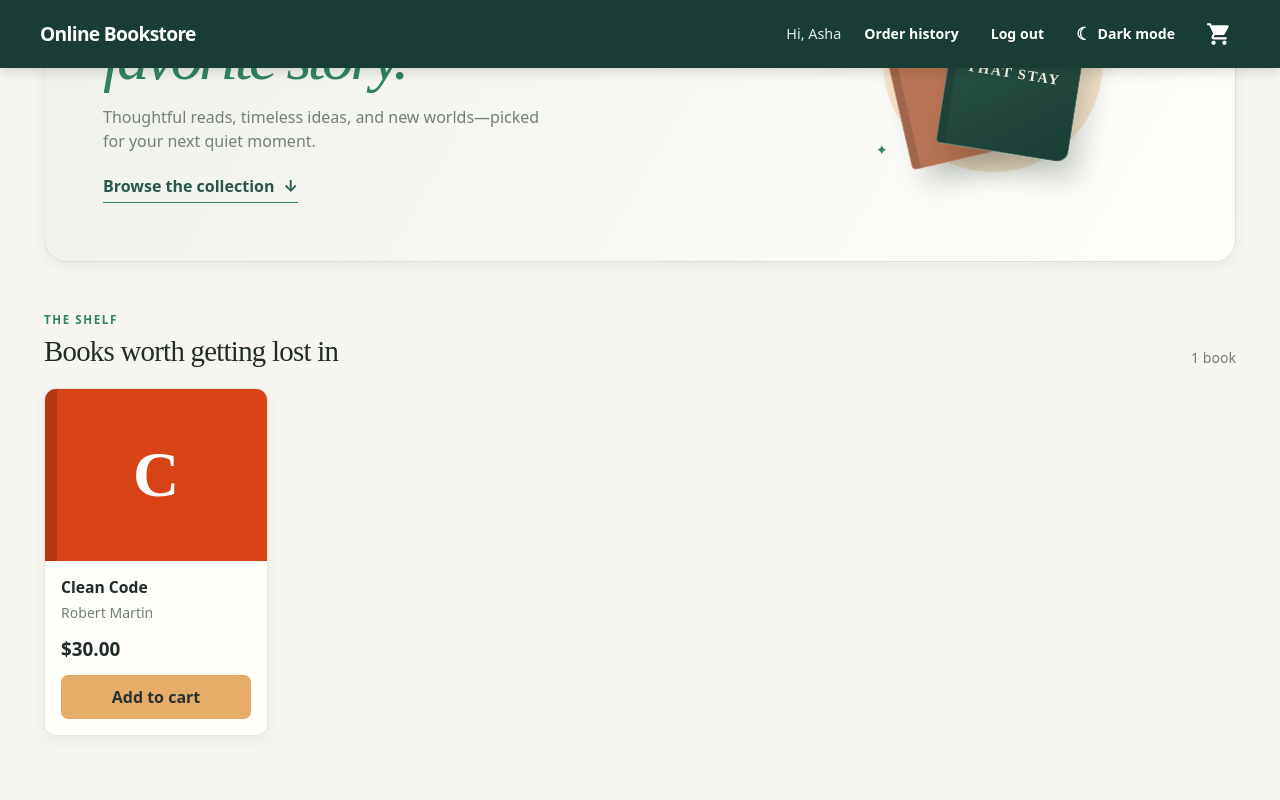
Test case: App (logged in) › adds a book and updates the cart icon
(page scrolled)
Click the button with aria-label "Add Clean Code to cart". click: [156, 698]
box: [61,676,251,720]
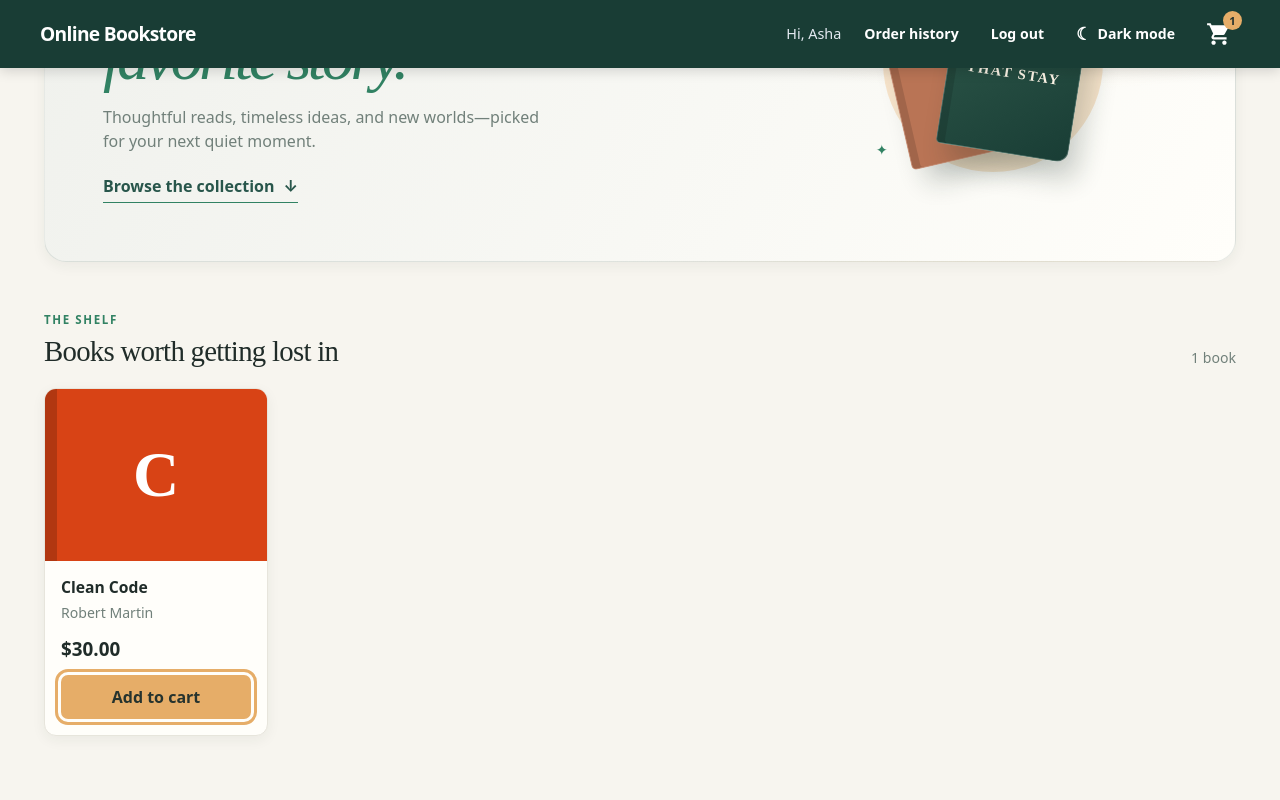
Now the button named "Open cart (1)" is shown, box [1198,13,1240,55]
